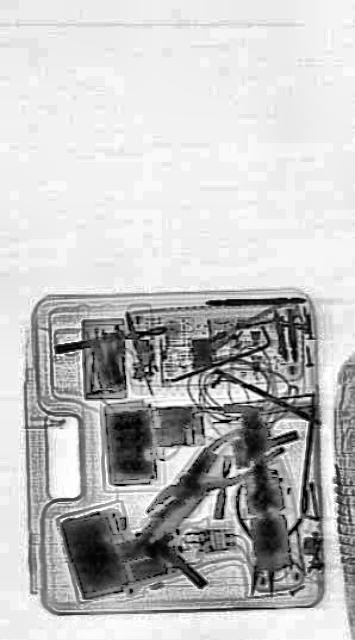Pliers: (140, 407, 272, 539), (226, 471, 308, 605)
